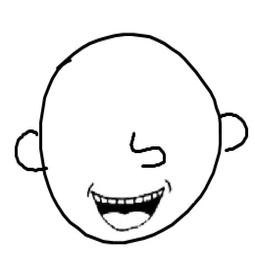ear: (9, 127, 50, 178), (215, 105, 251, 155)
nose: (119, 130, 172, 172)
open_mouth: (81, 184, 176, 239)
